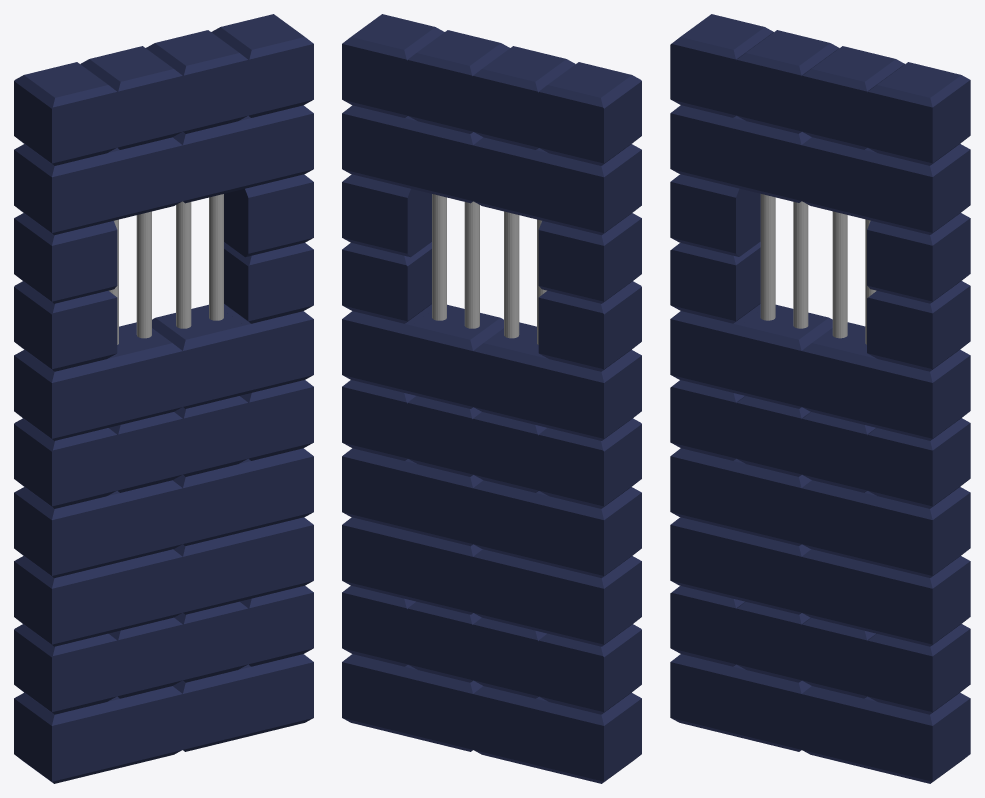
Rendered from Window wall.fbx.
3 views of the same model, side by side, from view 1: azimuth 30°, elevation 25°; view 2: azimuth 150°, elevation 25°; view 3: azimuth 330°, elevation 25° (orthographic).
Visible parts, largest first — view 1: obj_0.023; view 2: obj_0.023; view 3: obj_0.023.
Part boxes in pixels (bbox=[...]): obj_0.023: bbox=[14, 14, 313, 783]; obj_0.023: bbox=[342, 14, 641, 783]; obj_0.023: bbox=[670, 14, 970, 783].
Bounding box in the file's own units: 4000 × 10000 × 1000.
